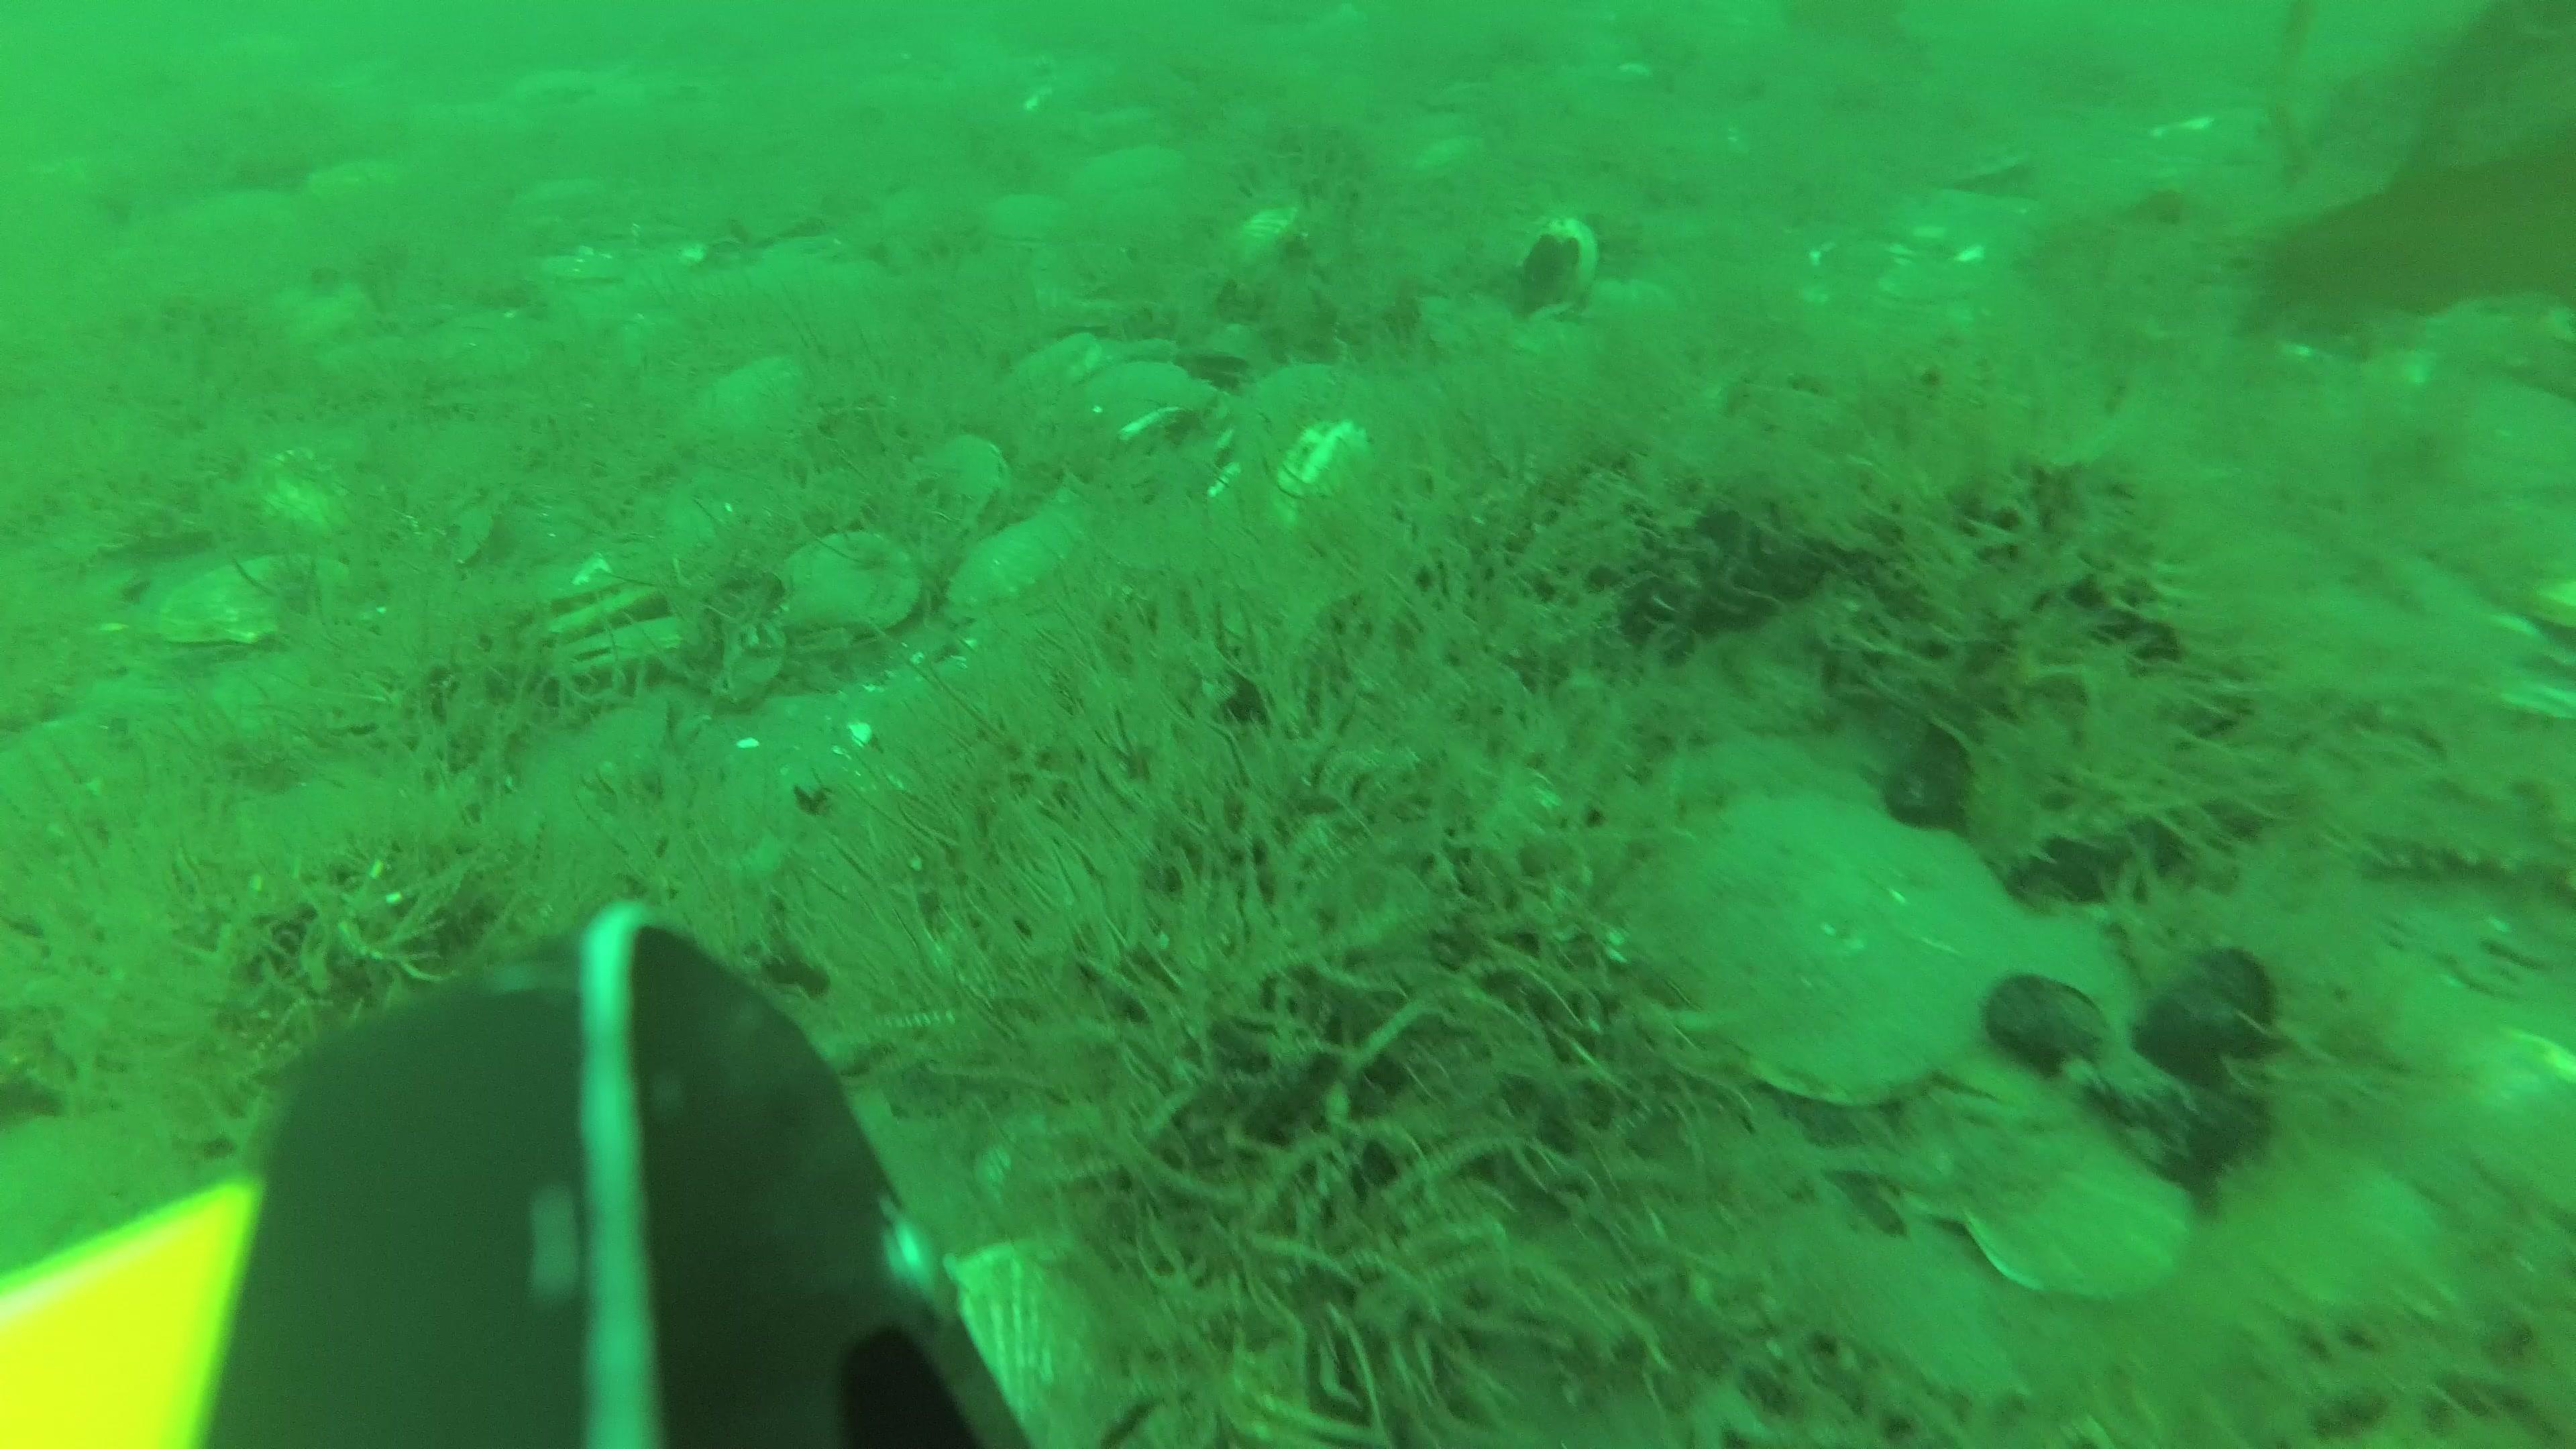holothurian: (2330, 766, 2576, 895)
scallop: (1654, 787, 2019, 1116), (1923, 906, 2128, 1127), (1960, 1129, 2204, 1313), (2240, 1127, 2459, 1318), (966, 1240, 1157, 1444), (2442, 1016, 2576, 1224), (775, 520, 924, 642), (886, 425, 1019, 547), (163, 559, 334, 649), (1063, 366, 1214, 469), (688, 349, 817, 455), (966, 502, 1079, 619), (1253, 363, 1382, 464), (547, 625, 694, 706), (517, 591, 662, 658), (1003, 336, 1115, 410), (1226, 200, 1306, 272), (508, 568, 616, 621), (987, 189, 1074, 248)
